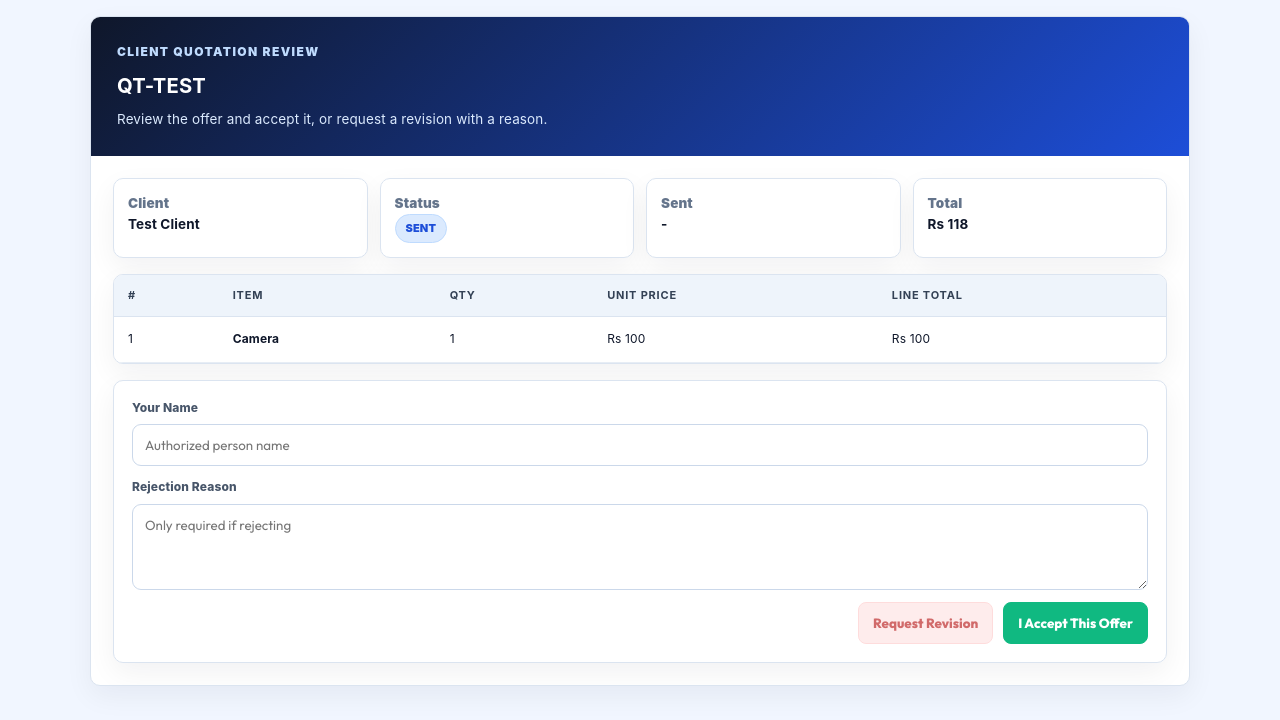
Test: client approval page › shows a backend error without falsely marking approval successful
This screenshot has width=1280, height=720.
Click the button "I Accept This Offer". click: click(1076, 623)
box: [1003, 602, 1148, 644]
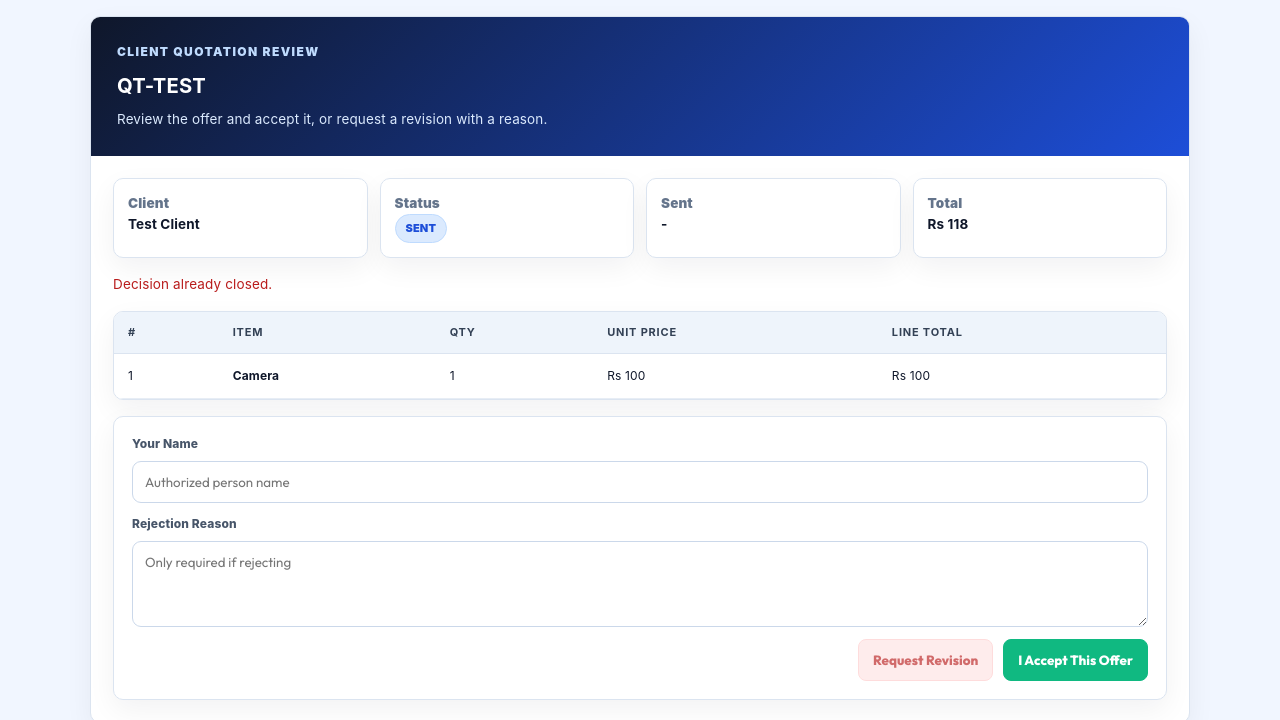
expect the button "I Accept This Offer" is enabled: met, box [1003, 639, 1148, 681]
expect the message reads "Decision already closed.": met, box [113, 276, 272, 292]
